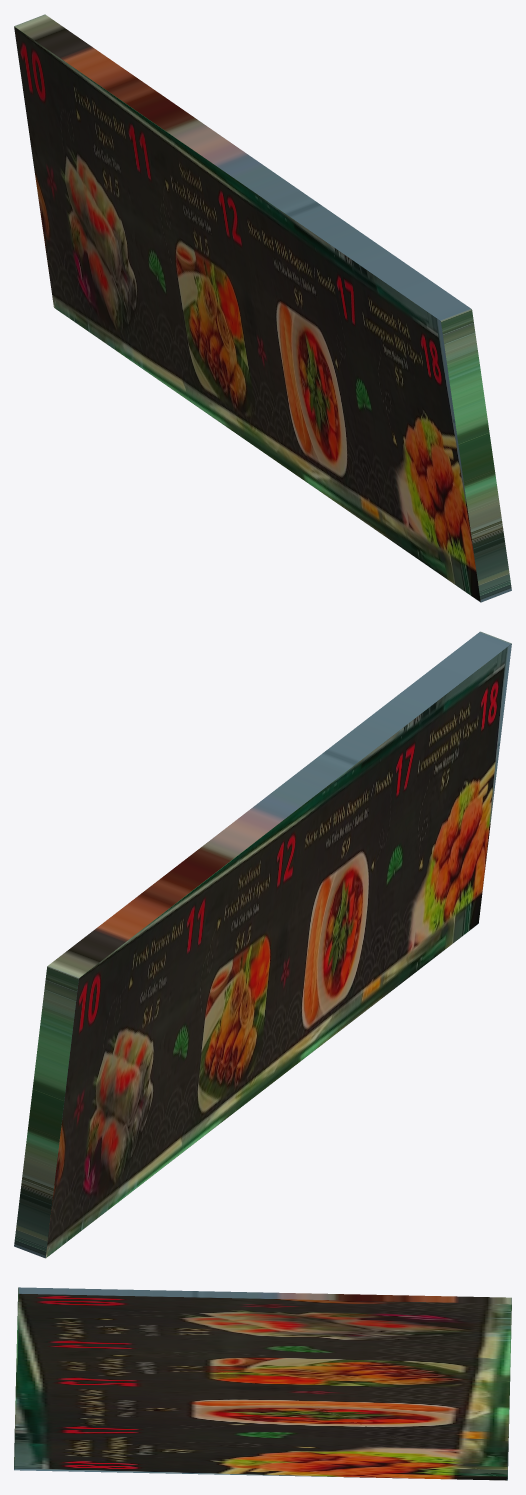
File: arena_hawker_centre_food_sign_9.dae
The picture shows the model from 3 angles, top to bottom: view 1: azimuth 30°, elevation 25°; view 2: azimuth 150°, elevation 25°; view 3: azimuth 270°, elevation 25°; orthographic projection. The views are drawn at different scales.
Parts seen in each view (by area): view 1: Plane.020; view 2: Plane.020; view 3: Plane.020.
Part boxes in pixels (left/top/right/bottom): Plane.020: left=14, top=14, right=511, bottom=602; Plane.020: left=14, top=631, right=511, bottom=1258; Plane.020: left=14, top=1287, right=511, bottom=1480.
Size of the model in its own units: 0.146 by 1.61 by 0.6399.
Materials: 1 (1 with a texture image).
